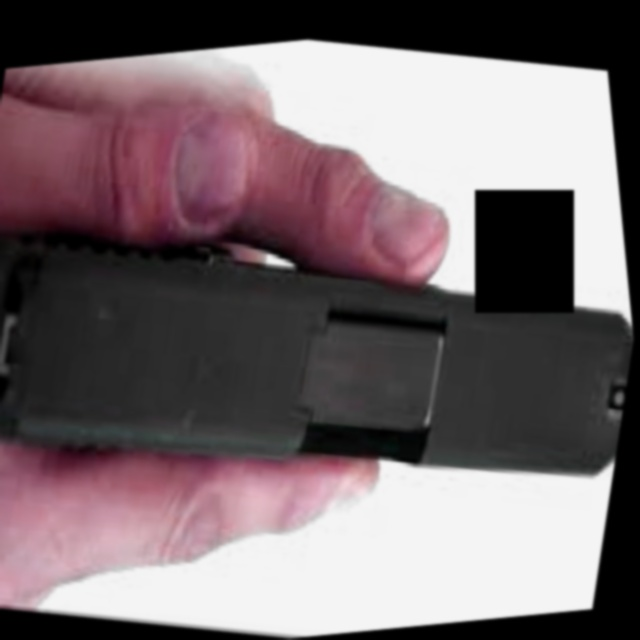gun: (0, 116, 640, 606)
